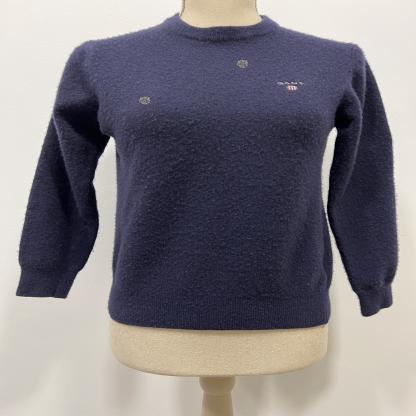stain: (137, 95, 152, 106), (235, 58, 249, 69)
